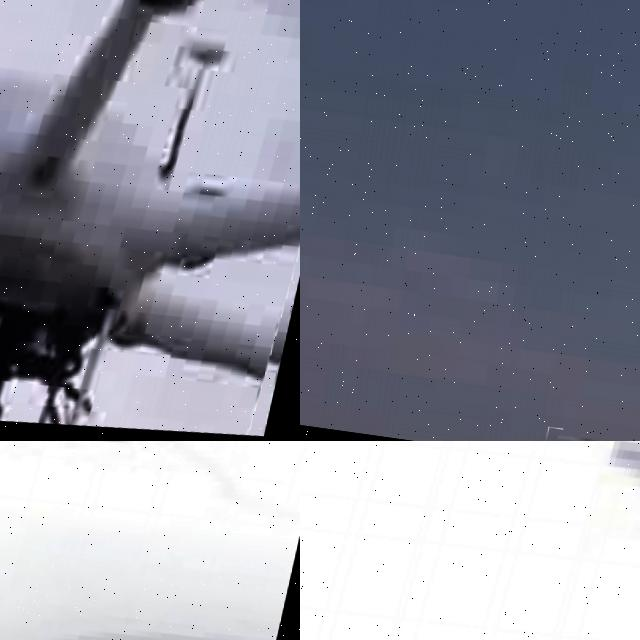drone: (0, 0, 300, 441), (300, 441, 640, 640), (0, 441, 300, 640), (542, 427, 634, 441)
